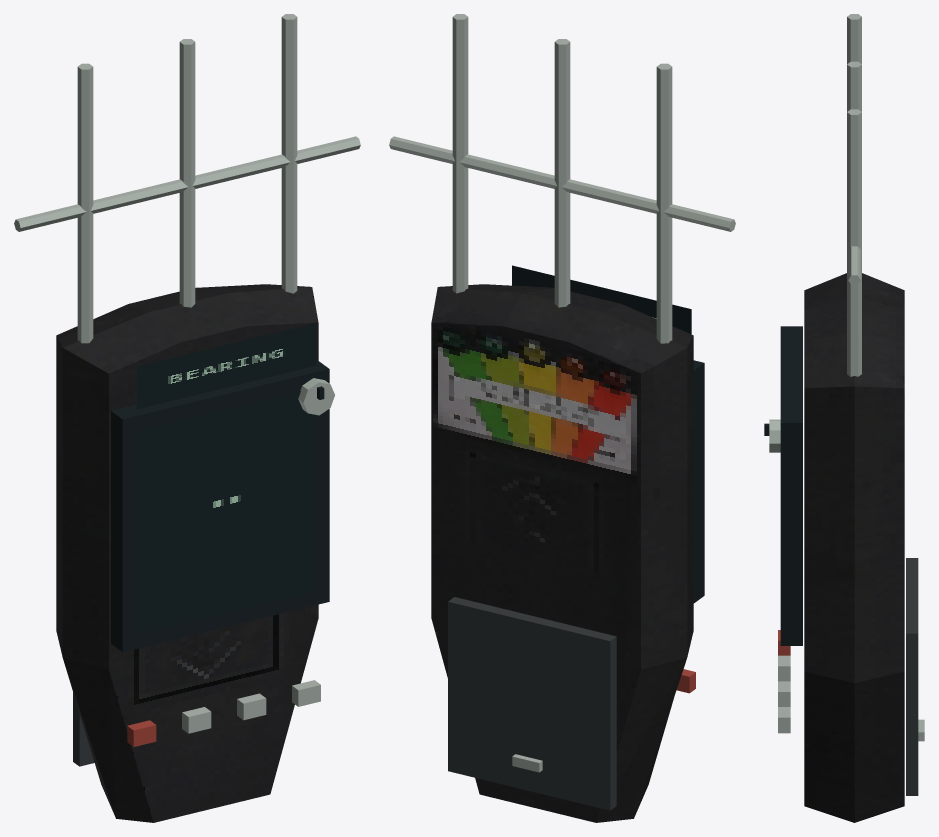
Rendered from blender_anchor_triangulator_3.glb.
3 renders of one model, left to right at view 1: azimuth 30°, elevation 25°; view 2: azimuth 150°, elevation 25°; view 3: azimuth 270°, elevation 25°, orthographic. The views are drawn at different scales.
Visible parts, largest first — view 1: blender_anchor_triangulator_3; view 2: blender_anchor_triangulator_3; view 3: blender_anchor_triangulator_3.
Boxes of the visible parts, <box> form: blender_anchor_triangulator_3: <box>14,14,360,822</box>; blender_anchor_triangulator_3: <box>389,14,735,822</box>; blender_anchor_triangulator_3: <box>764,14,924,822</box>.
Bounding box in the file's own units: 0.15 × 0.32 × 0.064.
Materials: 1 (1 with a texture image).
